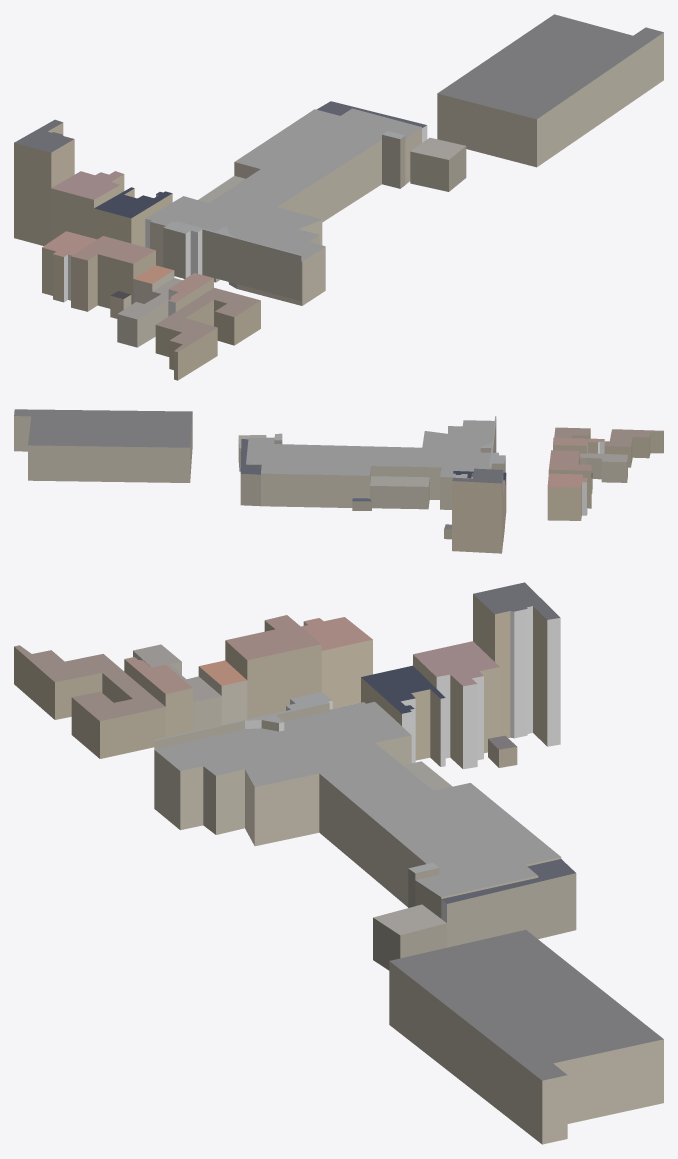
The picture shows the model from 3 angles, top to bottom: view 1: azimuth 30°, elevation 25°; view 2: azimuth 150°, elevation 25°; view 3: azimuth 270°, elevation 25°; orthographic projection. The views are drawn at different scales.
Visible parts, largest first — view 1: tuile; view 2: tuile; view 3: tuile.
Part boxes in pixels (<box>): tuile: <box>14,14,663,380</box>; tuile: <box>14,409,663,553</box>; tuile: <box>14,582,663,1144</box>.
Bounding box in the file's own units: 185 × 26.04 × 113.
